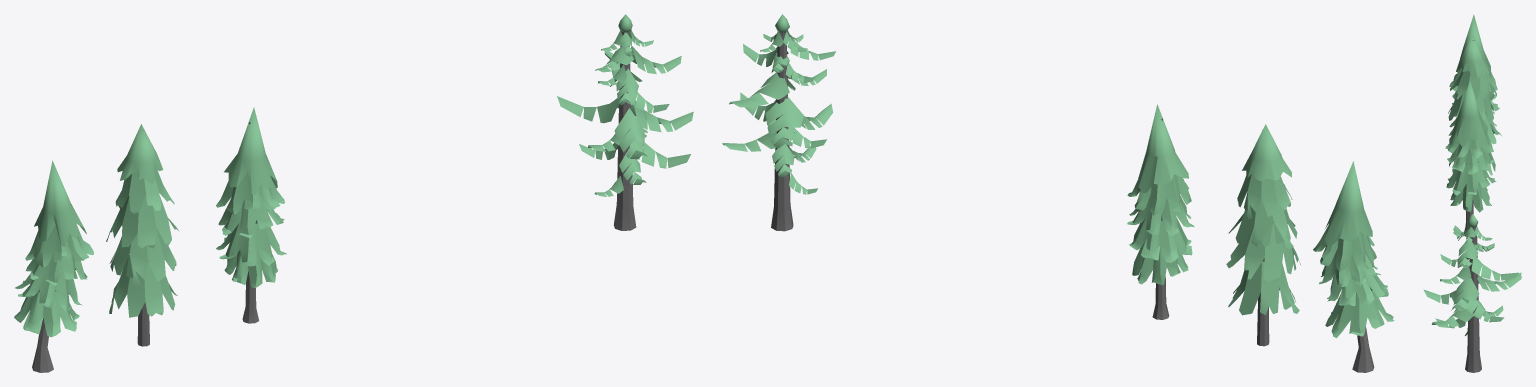
File: MDL_Trees.fbx
3 views of the same model, side by side, from view 1: azimuth 30°, elevation 25°; view 2: azimuth 150°, elevation 25°; view 3: azimuth 270°, elevation 25° (orthographic). The views are drawn at different scales.
Visible parts, largest first — view 1: Tree_02, Tree_04, Tree_01, Tree_03; view 2: Tree_02, Tree_04, Tree_01, Tree_03; view 3: Tree_04, Tree_03, Tree_02, Tree_01.
Boxes of the visible parts, x1,y1,x2,y2 form: Tree_02: (106,124,179,346); Tree_04: (557,14,693,230); Tree_01: (14,160,93,372); Tree_03: (216,107,286,323); Tree_02: (1226,124,1300,346); Tree_04: (722,14,835,231); Tree_01: (1313,161,1394,372); Tree_03: (1127,104,1194,319); Tree_04: (1423,214,1521,372); Tree_03: (1445,80,1496,237); Tree_02: (1448,35,1501,175); Tree_01: (1449,14,1500,134).
Bounding box in the file's own units: 129 × 41.22 × 22.68.
